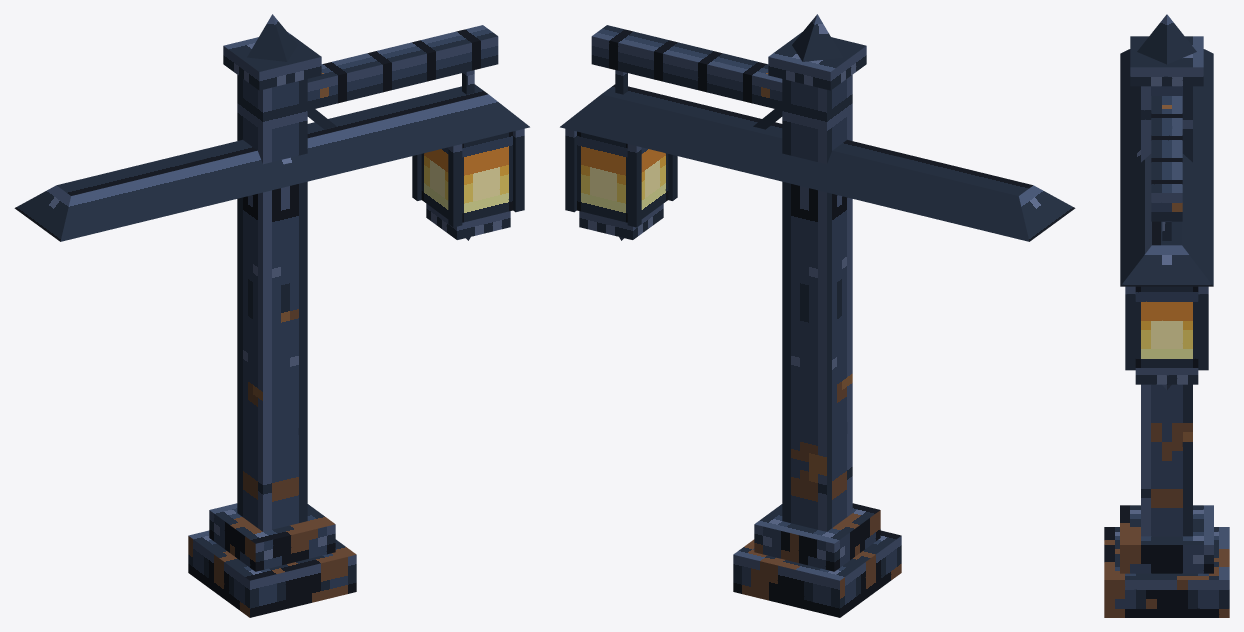
The model's file is harbor-lamp.glb.
The picture shows the model from 3 angles, left to right: view 1: azimuth 30°, elevation 25°; view 2: azimuth 150°, elevation 25°; view 3: azimuth 270°, elevation 25°; orthographic projection.
Visible parts, largest first — view 1: harbor-lamp__post, harbor-lamp__lroof, harbor-lamp__arm, harbor-lamp__foot, harbor-lamp__lantern, harbor-lamp__plinth, harbor-lamp__collar, harbor-lamp__finial, harbor-lamp__lbase, harbor-lamp__post_l, harbor-lamp__post_r; view 2: harbor-lamp__post, harbor-lamp__lroof, harbor-lamp__arm, harbor-lamp__foot, harbor-lamp__lantern, harbor-lamp__plinth, harbor-lamp__collar, harbor-lamp__finial, harbor-lamp__lbase, harbor-lamp__post_l~z, harbor-lamp__post_r~z; view 3: harbor-lamp__lroof, harbor-lamp__post, harbor-lamp__foot, harbor-lamp__lantern, harbor-lamp__plinth, harbor-lamp__arm, harbor-lamp__collar, harbor-lamp__finial, harbor-lamp__lbase, harbor-lamp__post_r, harbor-lamp__post_r~z, harbor-lamp__hanger.
Boxes of the visible parts, left/top/right/bottom form: harbor-lamp__post: left=237, top=75, right=307, bottom=531; harbor-lamp__lroof: left=14, top=84, right=529, bottom=241; harbor-lamp__arm: left=307, top=25, right=498, bottom=110; harbor-lamp__foot: left=188, top=530, right=356, bottom=617; harbor-lamp__lantern: left=421, top=131, right=512, bottom=222; harbor-lamp__plinth: left=209, top=503, right=335, bottom=571; harbor-lamp__collar: left=223, top=32, right=321, bottom=90; harbor-lamp__finial: left=247, top=14, right=297, bottom=61; harbor-lamp__lbase: left=426, top=203, right=510, bottom=239; harbor-lamp__post_l: left=448, top=144, right=462, bottom=227; harbor-lamp__post_r: left=513, top=128, right=524, bottom=212; harbor-lamp__post: left=782, top=75, right=852, bottom=531; harbor-lamp__lroof: left=560, top=84, right=1075, bottom=241; harbor-lamp__arm: left=591, top=25, right=782, bottom=110; harbor-lamp__foot: left=733, top=530, right=901, bottom=617; harbor-lamp__lantern: left=577, top=131, right=668, bottom=222; harbor-lamp__plinth: left=754, top=503, right=880, bottom=571; harbor-lamp__collar: left=768, top=32, right=866, bottom=90; harbor-lamp__finial: left=792, top=14, right=842, bottom=61; harbor-lamp__lbase: left=579, top=203, right=663, bottom=239; harbor-lamp__post_l~z: left=627, top=144, right=641, bottom=227; harbor-lamp__post_r~z: left=565, top=128, right=576, bottom=212; harbor-lamp__lroof: left=1120, top=49, right=1213, bottom=286; harbor-lamp__post: left=1141, top=86, right=1192, bottom=536; harbor-lamp__foot: left=1104, top=527, right=1229, bottom=617; harbor-lamp__lantern: left=1135, top=286, right=1198, bottom=367; harbor-lamp__plinth: left=1120, top=505, right=1213, bottom=573; harbor-lamp__arm: left=1151, top=96, right=1182, bottom=221; harbor-lamp__collar: left=1130, top=36, right=1203, bottom=86; harbor-lamp__finial: left=1137, top=14, right=1196, bottom=64; harbor-lamp__lbase: left=1135, top=368, right=1198, bottom=384; harbor-lamp__post_r: left=1125, top=286, right=1135, bottom=370; harbor-lamp__post_r~z: left=1198, top=286, right=1208, bottom=370; harbor-lamp__hanger: left=1162, top=221, right=1171, bottom=240.
Size of the model in its own units: 2.94 by 3.4 by 0.6689.
Materials: 6 (6 with a texture image).
